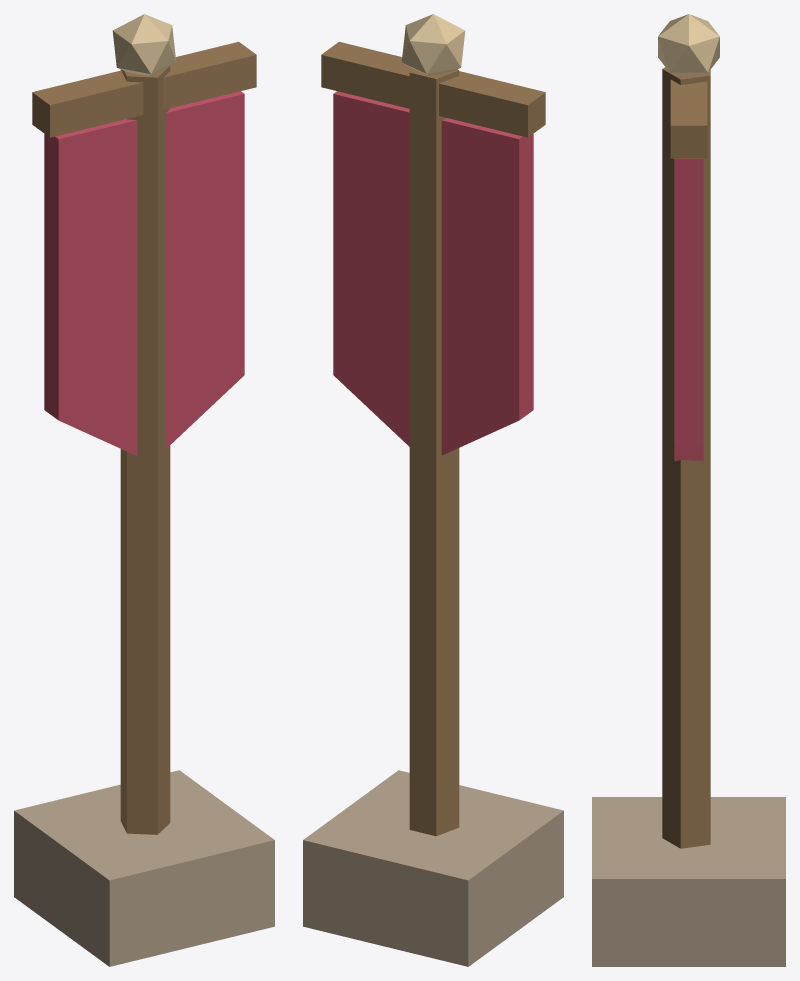
Rendered from banner-pole.glb.
3 views of the same model, side by side, from view 1: azimuth 30°, elevation 25°; view 2: azimuth 150°, elevation 25°; view 3: azimuth 270°, elevation 25° (orthographic).
Parts seen in each view (by area): view 1: medieval-banner-pole; view 2: medieval-banner-pole; view 3: medieval-banner-pole.
Part boxes in pixels (x1,y1,x2,y2): medieval-banner-pole: (14,14,274,966); medieval-banner-pole: (303,14,563,966); medieval-banner-pole: (592,14,785,966).
Size of the model in its own units: 0.2 by 0.83 by 0.16.
